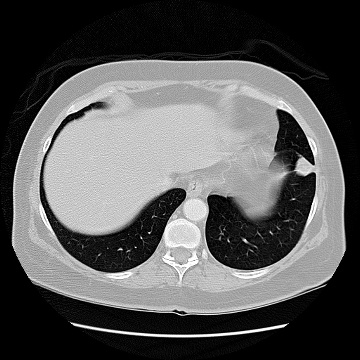PN: (294, 157, 314, 177)
